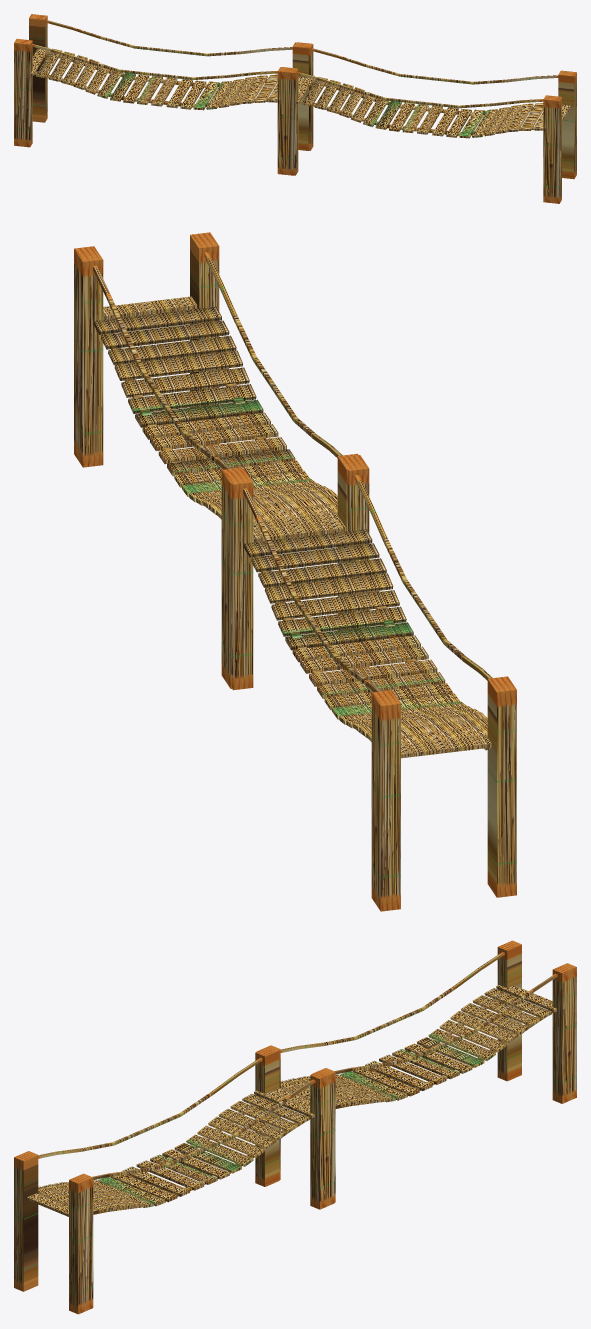
File: island bridge.gltf
3 views of the same model, one above another, from view 1: azimuth 30°, elevation 25°; view 2: azimuth 150°, elevation 25°; view 3: azimuth 270°, elevation 25° (orthographic). The views are drawn at different scales.
Visible parts, largest first — view 1: island bridge; view 2: island bridge; view 3: island bridge.
Part boxes in pixels (x1,y1,x2,y2): island bridge: (14, 14, 576, 203); island bridge: (74, 232, 516, 911); island bridge: (14, 940, 576, 1314).
Size of the model in its own units: 51.42 by 12.87 by 50.26.
1 material, 1 textured.
